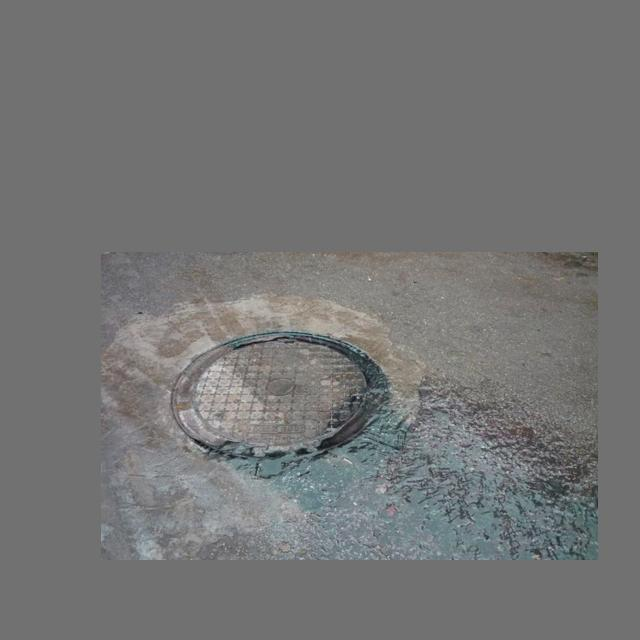circle: (154, 310, 421, 491)
